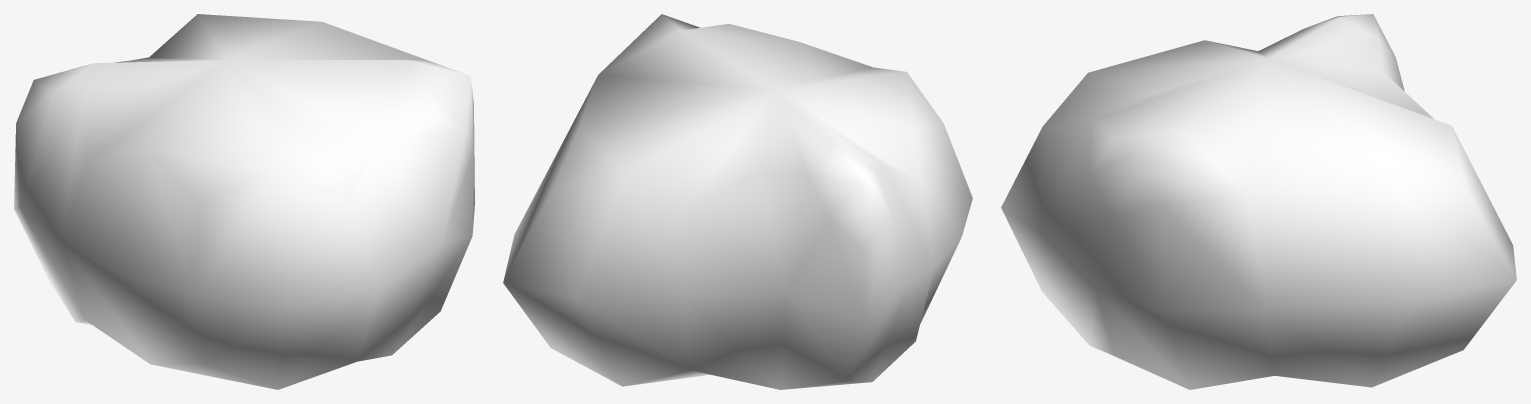
File: Rock 04.FBX
The picture shows the model from 3 angles, left to right: view 1: azimuth 30°, elevation 25°; view 2: azimuth 150°, elevation 25°; view 3: azimuth 270°, elevation 25°; orthographic projection. The views are drawn at different scales.
Parts seen in each view (by area): view 1: Box001; view 2: Box001; view 3: Box001.
Boxes of the visible parts, left/top/right/bottom form: Box001: left=14, top=14, right=474, bottom=389; Box001: left=503, top=14, right=972, bottom=389; Box001: left=1001, top=14, right=1516, bottom=389.
Size of the model in its own units: 31.29 by 22.68 by 36.41.
